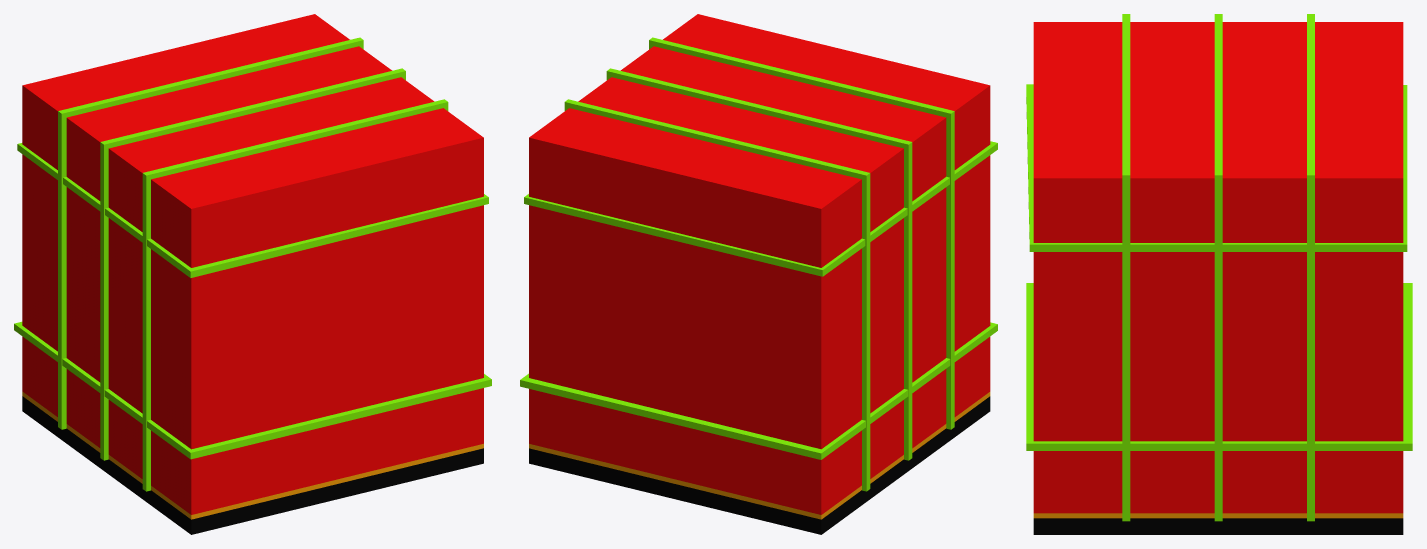
The model's file is DropBox.fbx.
3 renders of one model, left to right at view 1: azimuth 30°, elevation 25°; view 2: azimuth 150°, elevation 25°; view 3: azimuth 270°, elevation 25°, orthographic. The views are drawn at different scales.
Parts seen in each view (by area): view 1: DropBox, Ropes; view 2: DropBox, Ropes; view 3: DropBox, Ropes.
Boxes of the visible parts, bbox=[...] form: DropBox: bbox=[22, 14, 483, 534]; Ropes: bbox=[14, 37, 491, 491]; DropBox: bbox=[529, 14, 990, 534]; Ropes: bbox=[520, 37, 997, 491]; DropBox: bbox=[1033, 22, 1403, 534]; Ropes: bbox=[1026, 14, 1412, 521].
Bounding box in the file's own units: 95.54 × 100 × 96.76.
